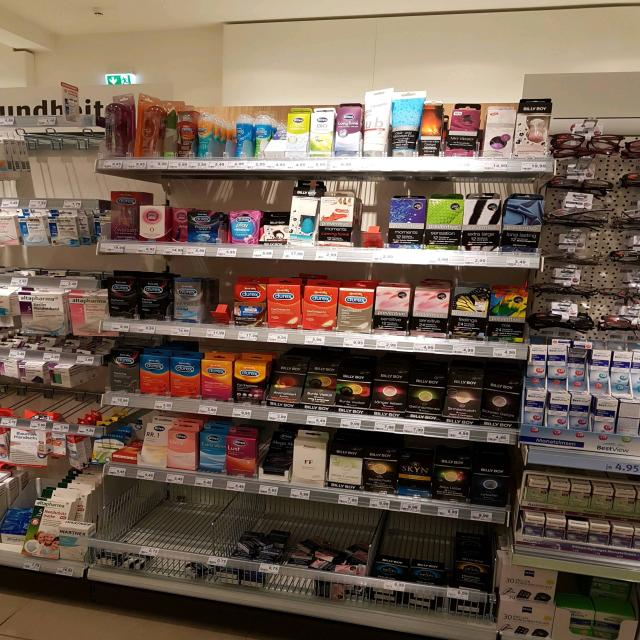void: (138, 492, 211, 550), (206, 268, 232, 328), (360, 195, 386, 246), (216, 105, 234, 158)
